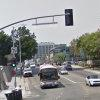traffic lights: (64, 8, 74, 28)
